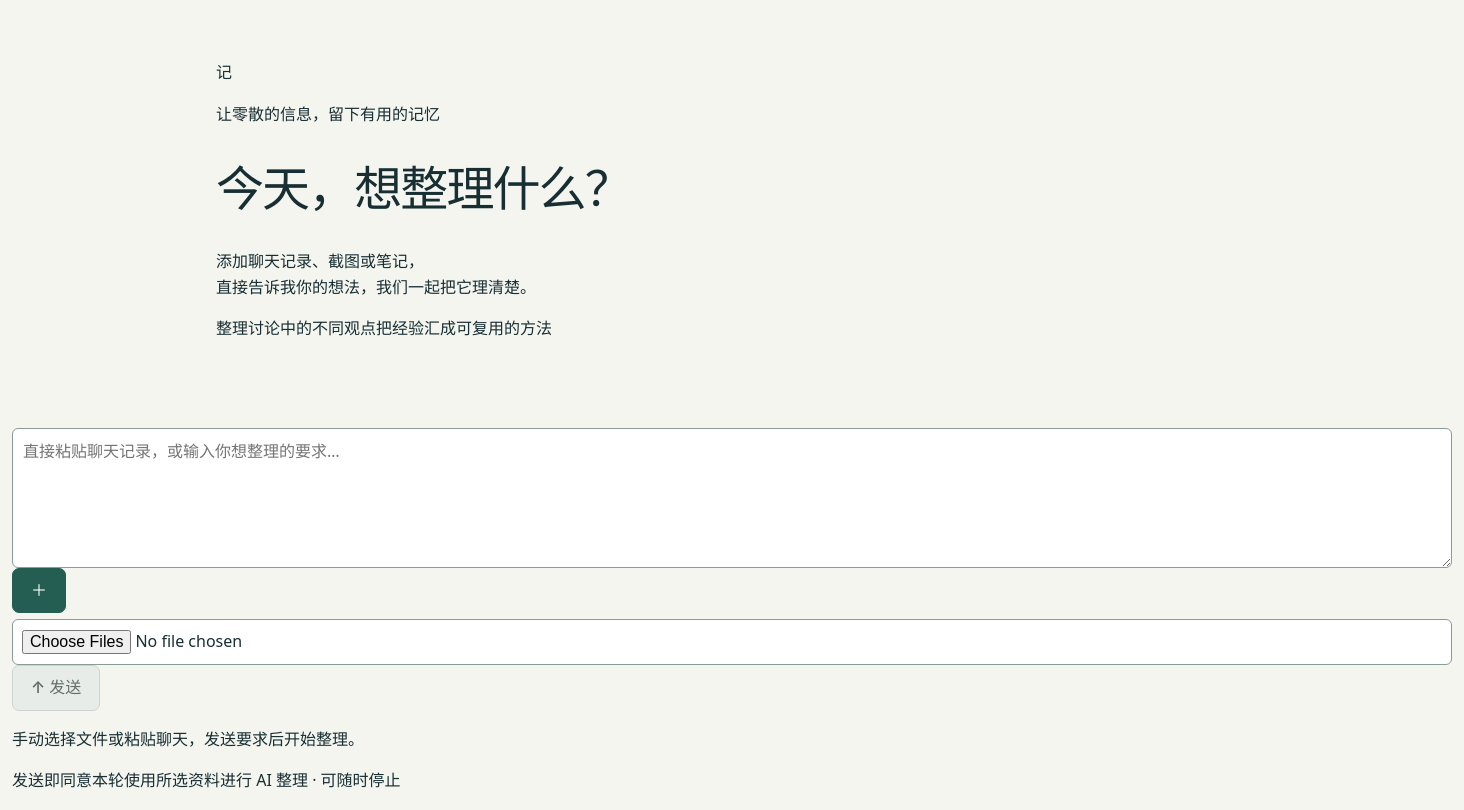
Test: ConversationWorkspace automatic chat › sends a natural-language task in automatic mode without author labels or approval controls
(page scrolled)
Type "整理重点" into the text box named "发送消息" at (732, 498), box x1=12 y1=428 x2=1452 y2=568
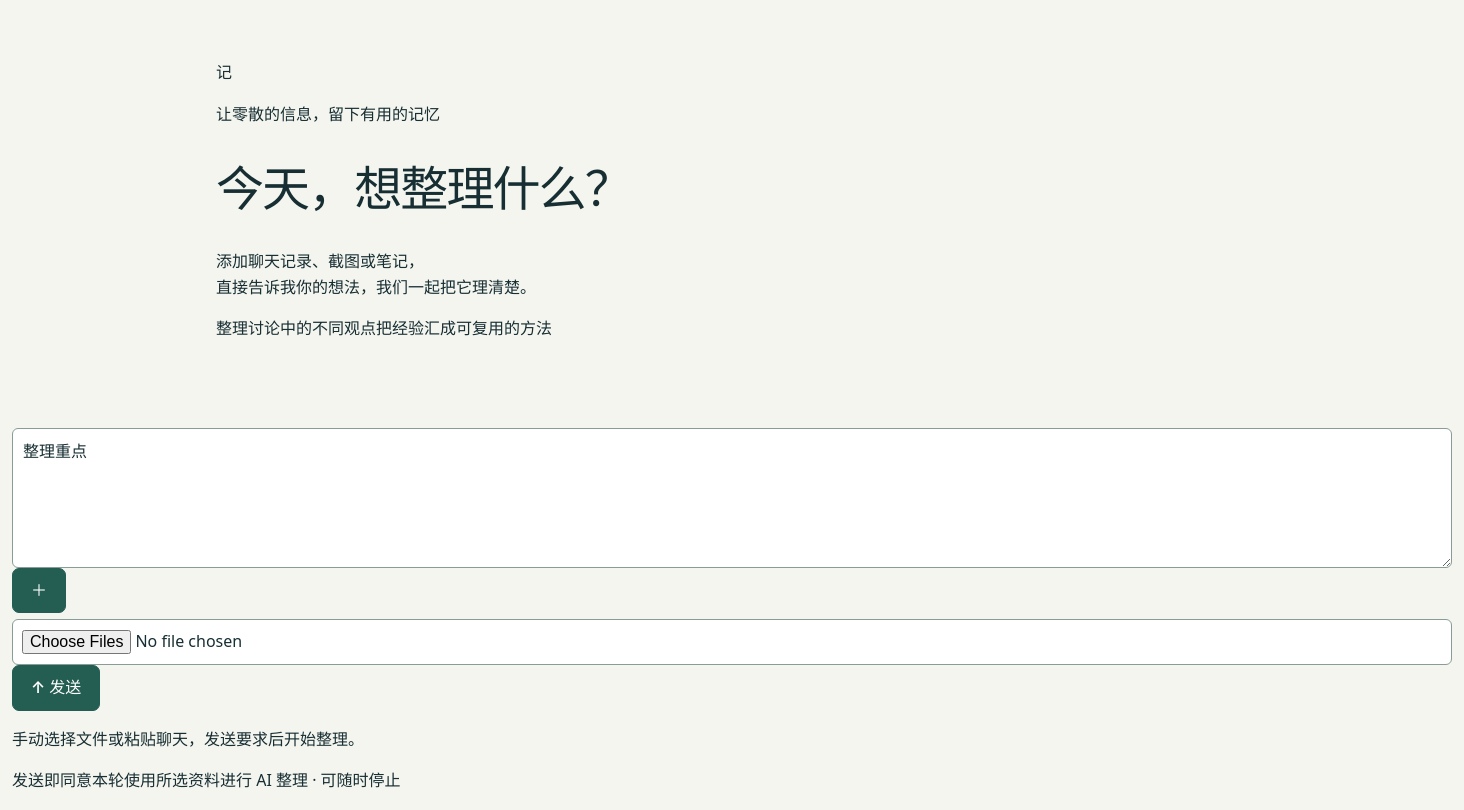
Click the button "↑ 发送" at (56, 688), box x1=12 y1=665 x2=100 y2=711
(page scrolled)
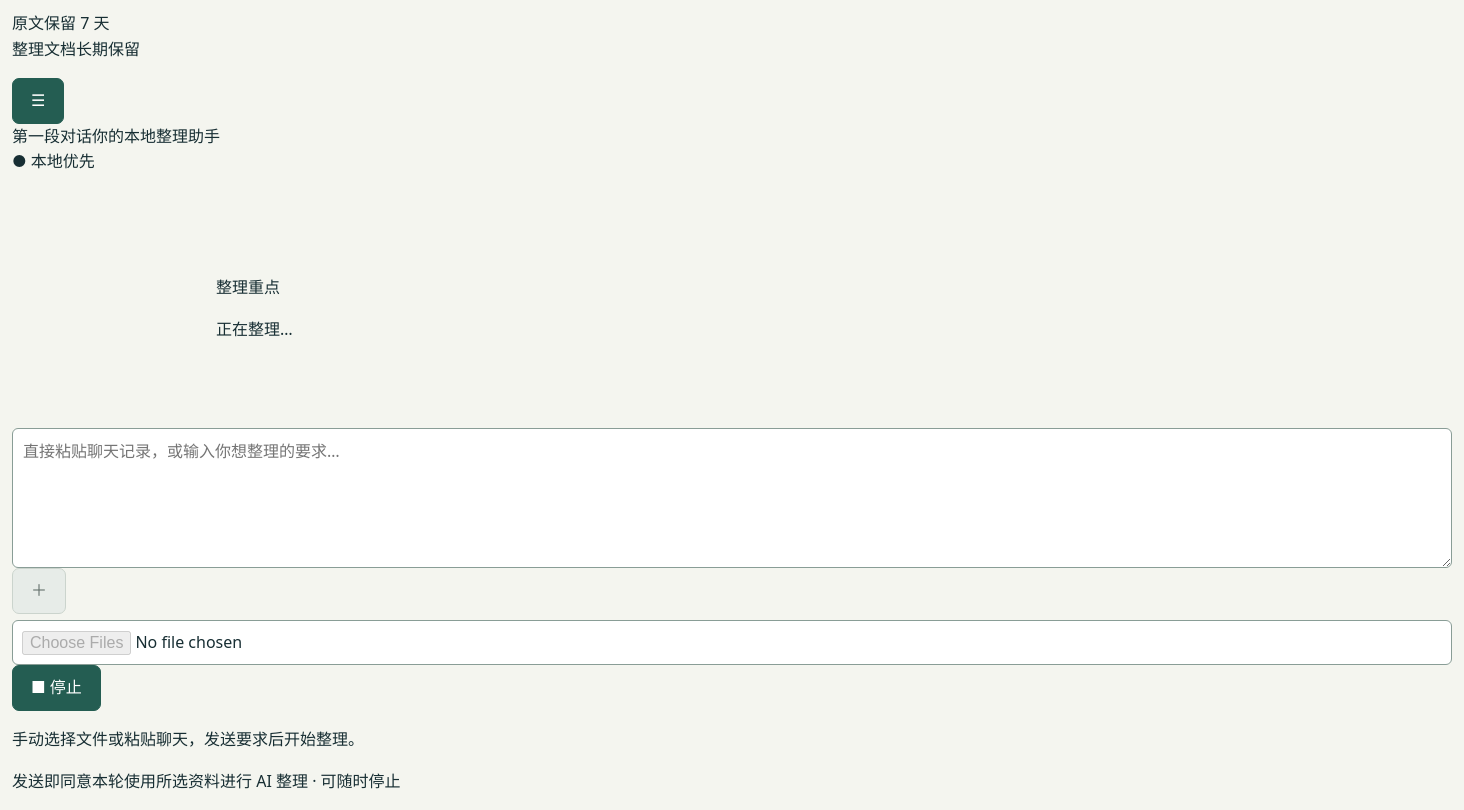
Expected: the button "■ 停止" is shown, x1=12 y1=665 x2=101 y2=711
